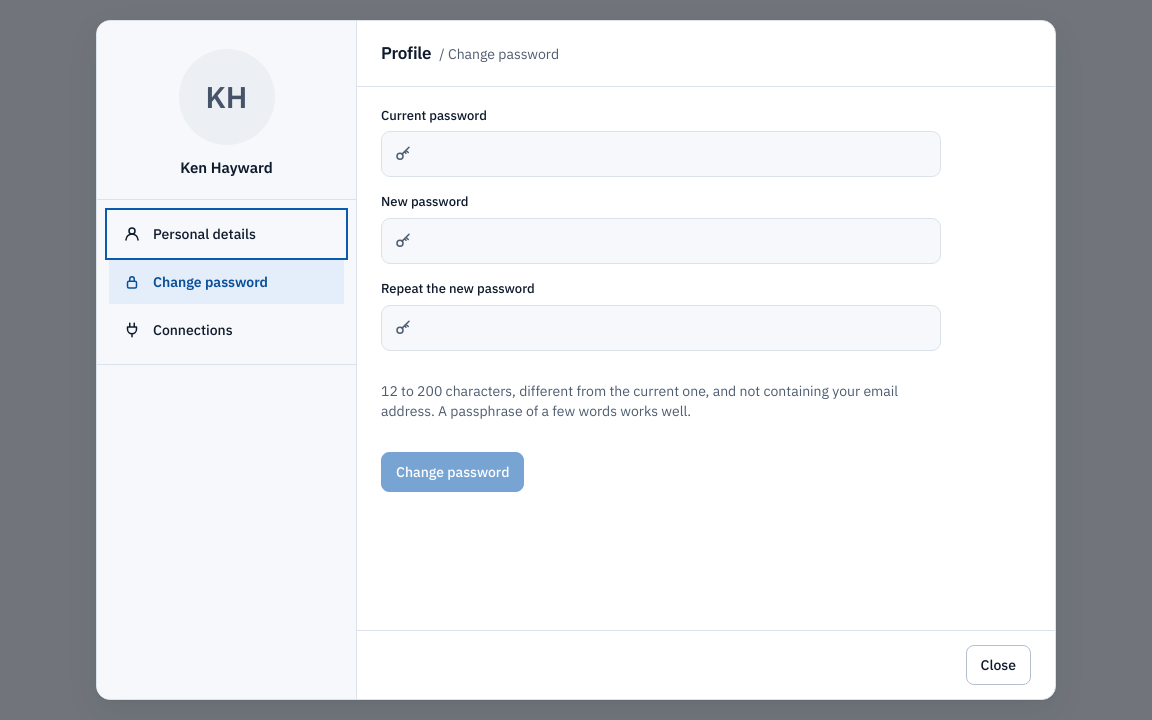
Test case: ProfileDialog layout › opens on the tab it is given and switches tabs
Expected: the password field labelled "Current password" is shown, [412,132,940,176]
Click the tab "Personal details". click: click(226, 234)
box: [109,212,344,256]
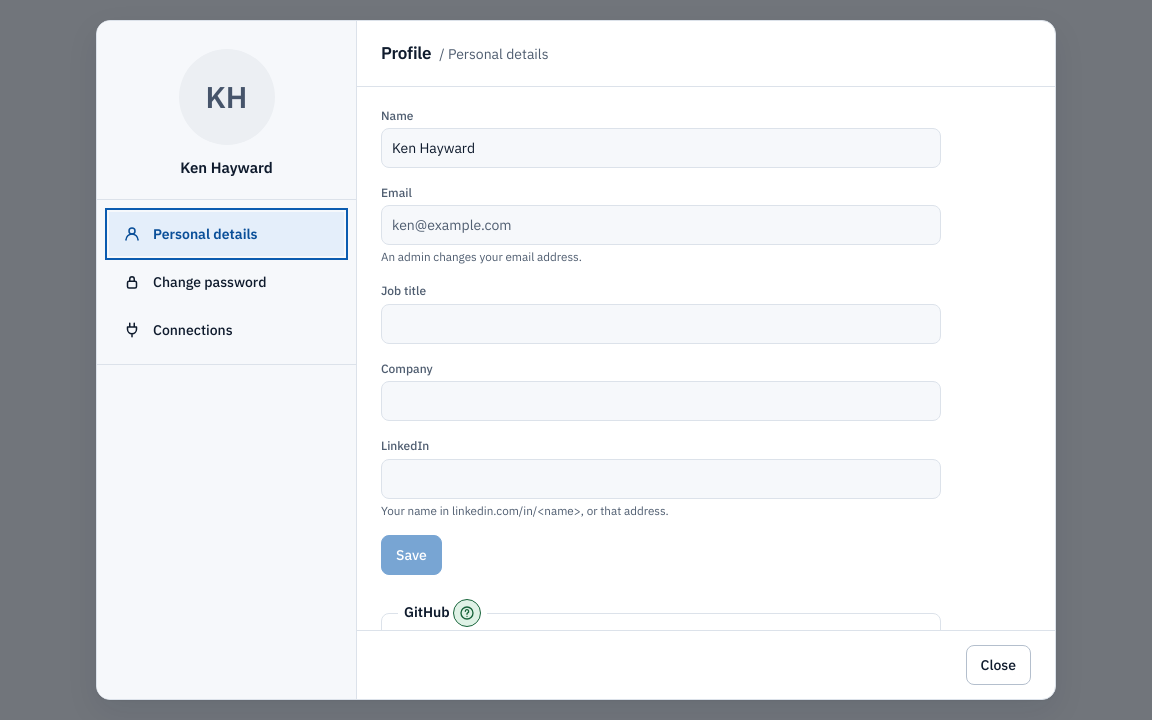
Expected: the field labelled "Name" is shown, [381,128,941,168]
